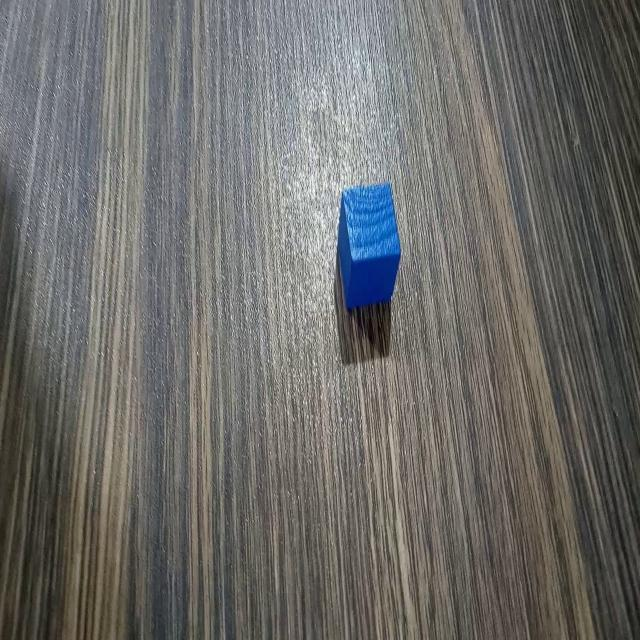cube: (333, 176, 403, 318)
